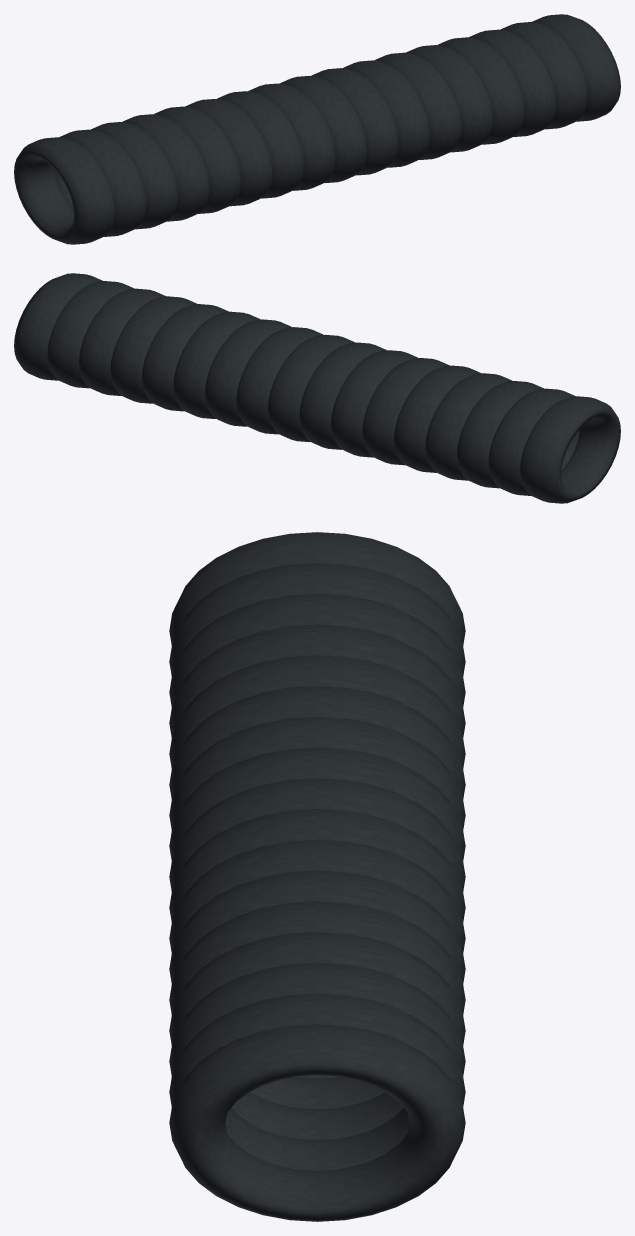
File: radio-cord.glb
3 views of the same model, one above another, from view 1: azimuth 30°, elevation 25°; view 2: azimuth 150°, elevation 25°; view 3: azimuth 270°, elevation 25° (orthographic). The views are drawn at different scales.
Parts seen in each view (by area): view 1: turn (×17); view 2: turn (×17); view 3: turn (×17).
Boxes of the visible parts, <box> form: turn (×17): <box>14,14,620,244</box>; turn (×17): <box>14,273,620,503</box>; turn (×17): <box>169,532,465,1221</box>.
Bounding box in the file's own units: 0.1598 × 0.0255 × 0.0378.
Materials: 1 (1 with a texture image).
